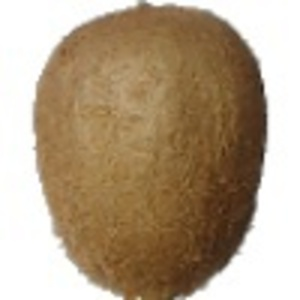kiwi: (31, 1, 269, 300)
